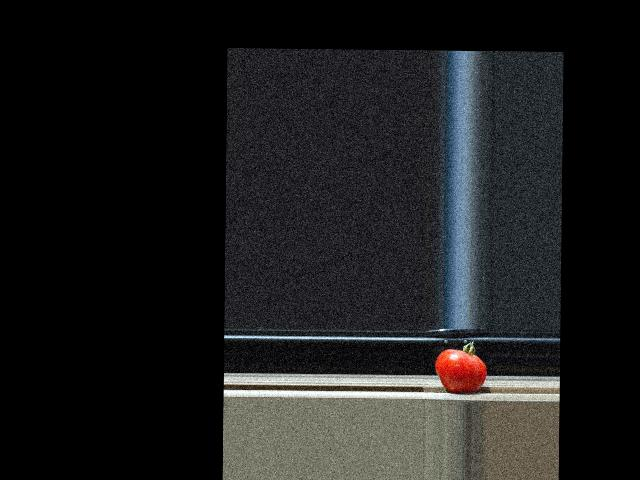tomato: (435, 340, 487, 392)
